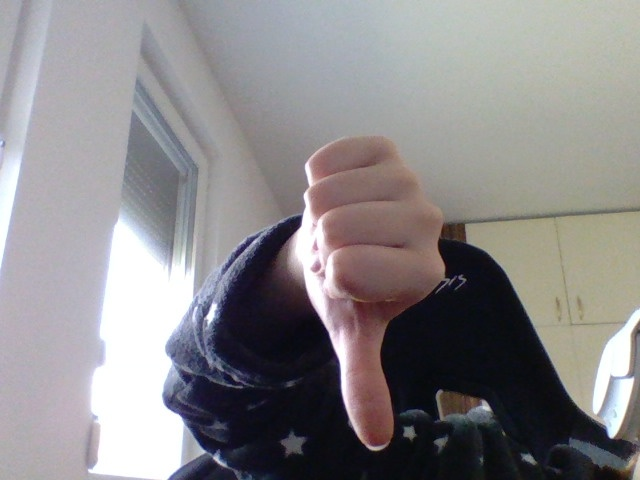ThumbsDown: (302, 135, 448, 451)
